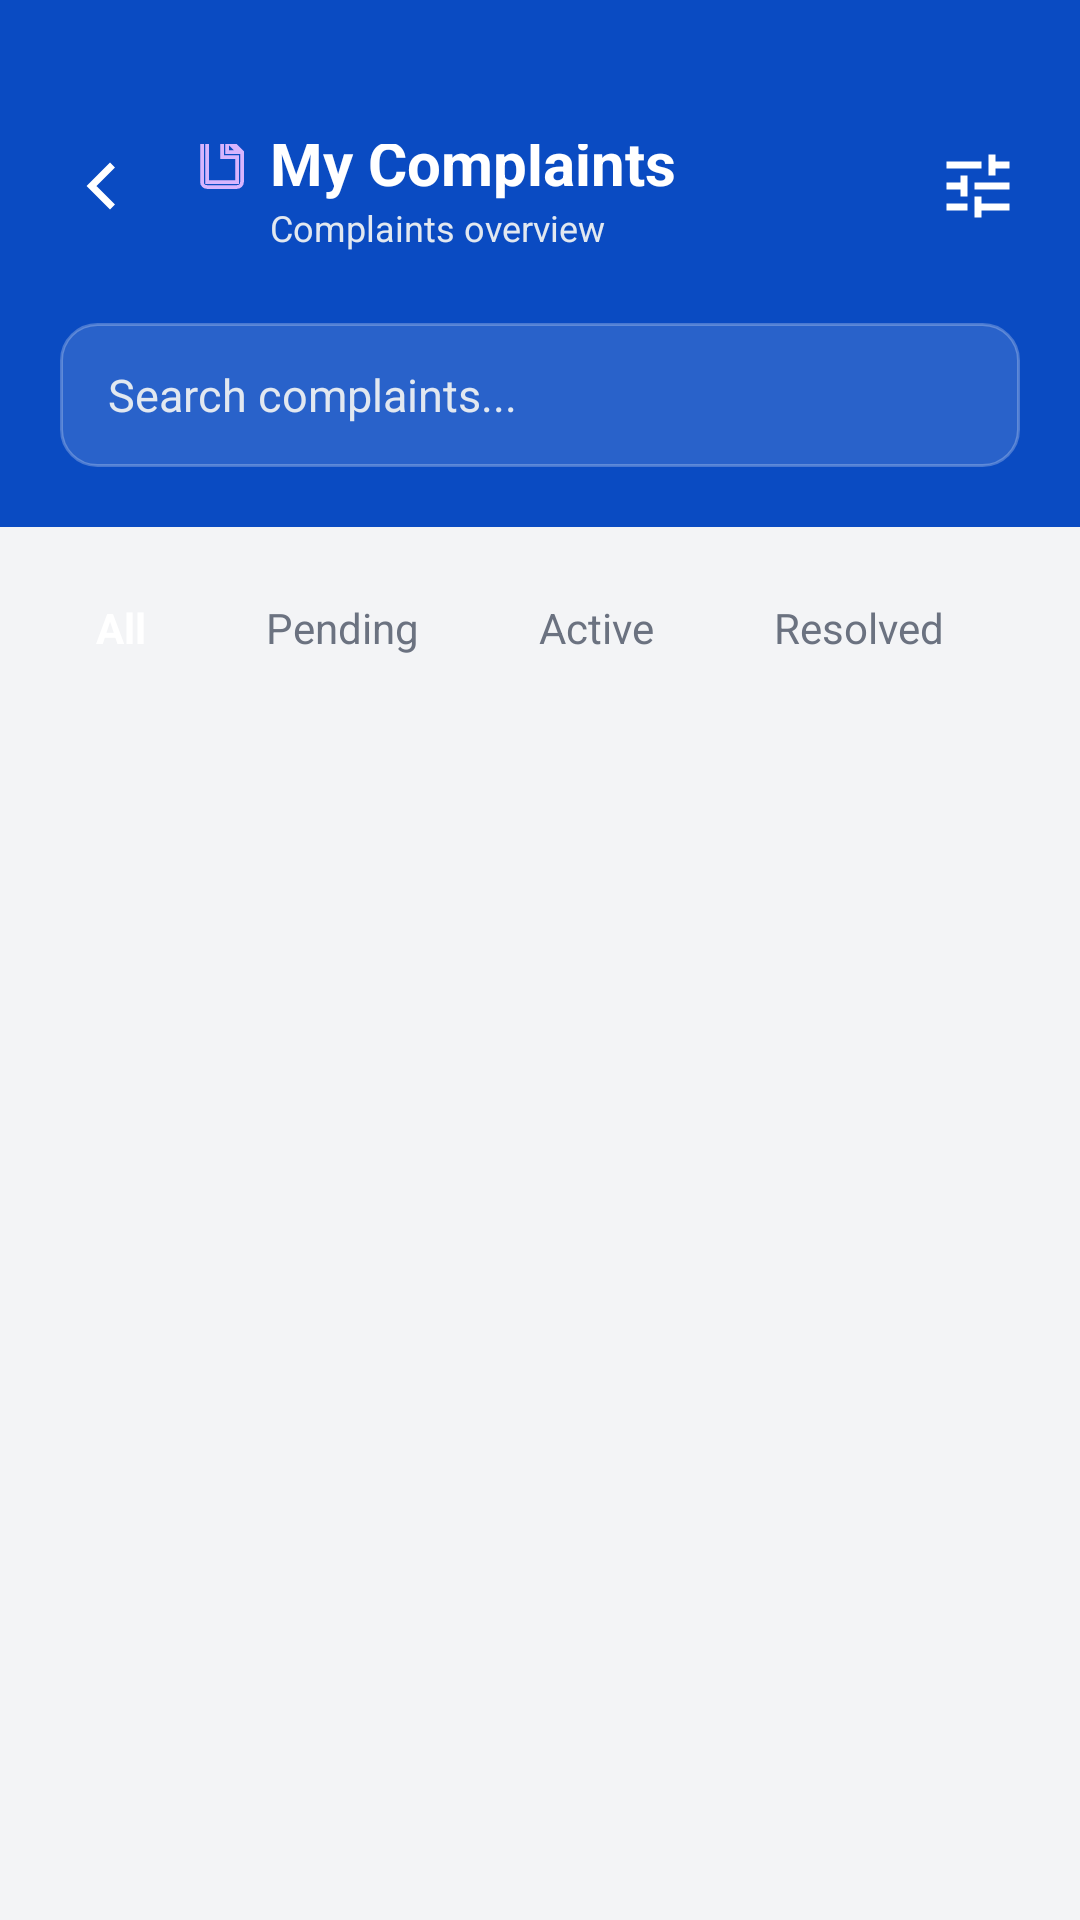

Icons on this 1080 × 1920 Android screen, each with the point to tap as (x=x, y=y):
arrow back: (x=101, y=186)
document: (x=222, y=166)
tune: (x=978, y=186)
